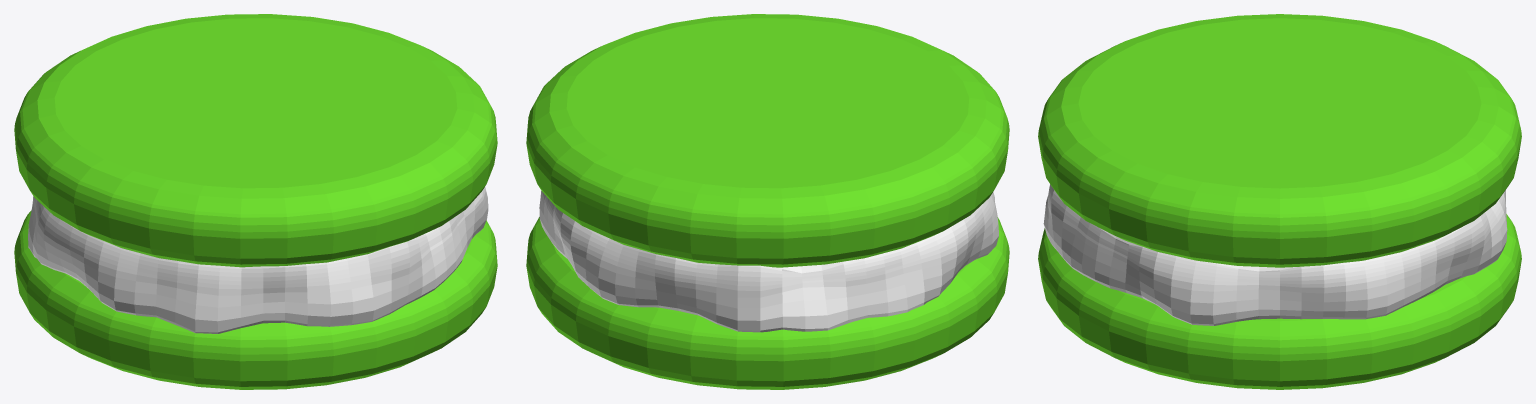
The model's file is Macaron.gltf.
3 renders of one model, left to right at view 1: azimuth 30°, elevation 25°; view 2: azimuth 150°, elevation 25°; view 3: azimuth 270°, elevation 25°, orthographic.
Parts seen in each view (by area): view 1: node-0; view 2: node-0; view 3: node-0.
Part boxes in pixels (<box>): node-0: <box>14,14,497,389</box>; node-0: <box>526,14,1009,389</box>; node-0: <box>1038,14,1521,389</box>.
Size of the model in its own units: 2106179 by 947442 by 2106179.
